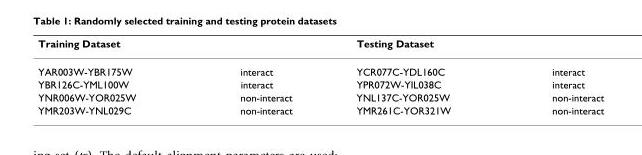table: (37, 36, 603, 115)
table column: (323, 36, 500, 115), (37, 36, 187, 115), (187, 36, 323, 115), (500, 36, 603, 115)
table column header: (37, 36, 603, 57)
table row: (37, 36, 603, 57), (37, 57, 603, 77), (37, 77, 603, 90), (37, 90, 603, 103), (37, 103, 603, 115)
